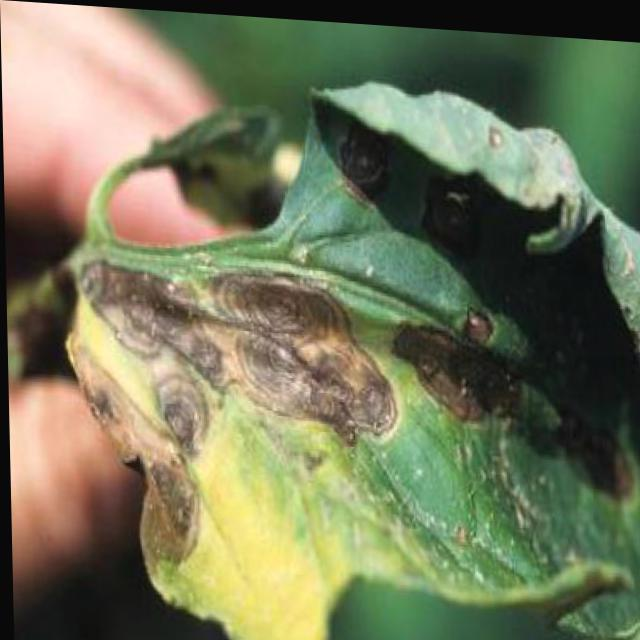Tomato Early blight leaf: (64, 62, 639, 639)
